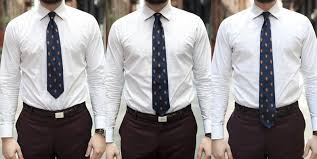F_belt: (228, 98, 310, 127), (120, 101, 201, 127), (15, 101, 89, 121)
F_dress pants: (225, 109, 307, 158), (117, 112, 199, 159), (11, 114, 95, 159)
F_shirt: (1, 7, 113, 141), (103, 5, 216, 136), (212, 3, 317, 135)
F_tie: (256, 10, 286, 132), (147, 12, 177, 120), (42, 11, 69, 102)
